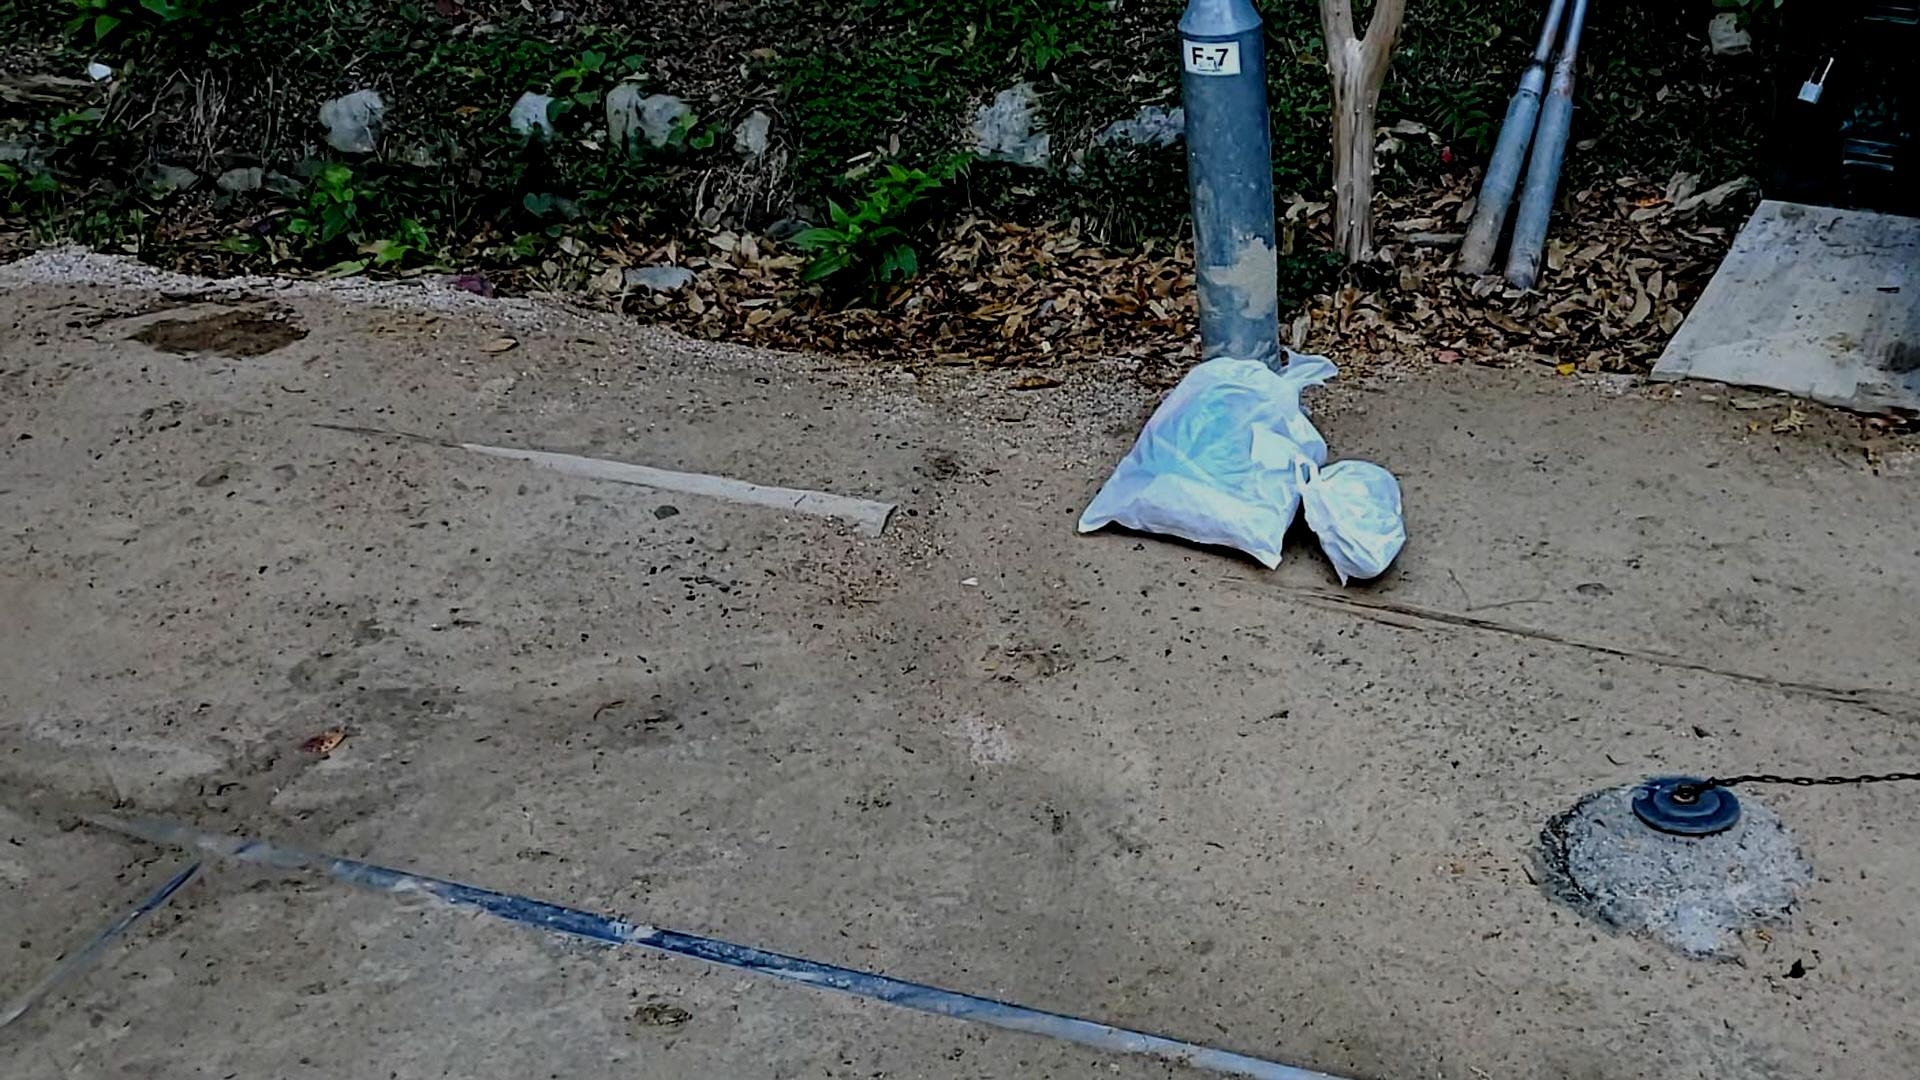white_bag: (1071, 332, 1335, 575), (1275, 436, 1414, 587)
